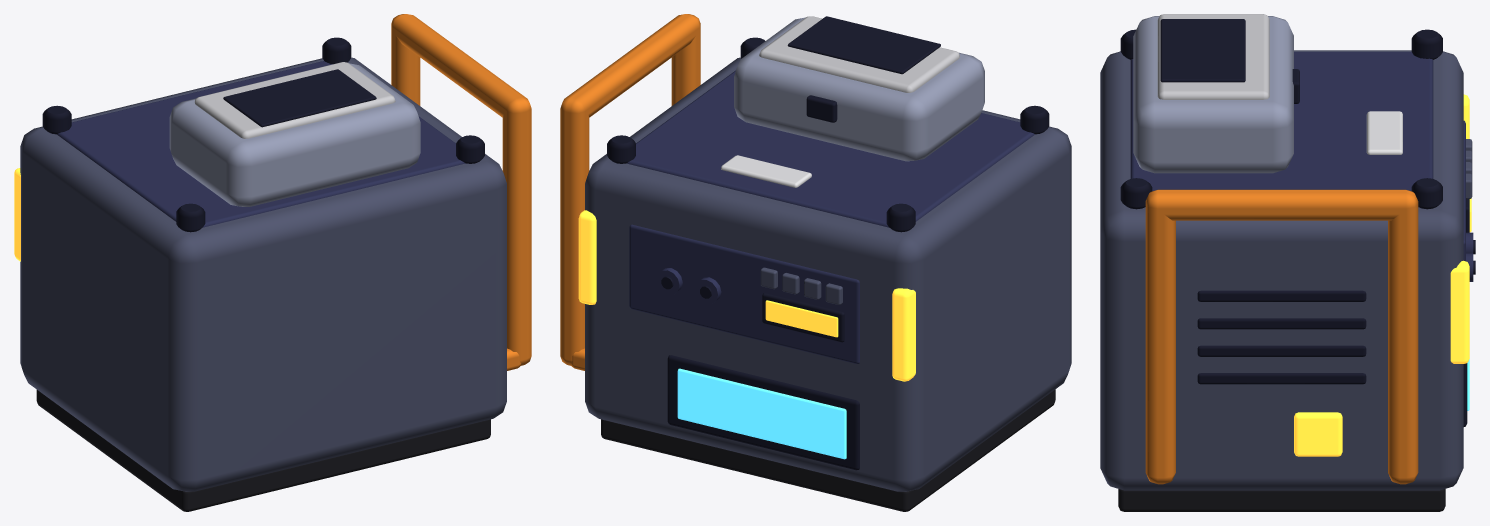
Rendered from prop.props_workrooms.machine_small.glb.
3 renders of one model, left to right at view 1: azimuth 30°, elevation 25°; view 2: azimuth 150°, elevation 25°; view 3: azimuth 270°, elevation 25°, orthographic. The views are drawn at different scales.
Parts seen in each view (by area): view 1: prop.props_workrooms.machine_small; view 2: prop.props_workrooms.machine_small; view 3: prop.props_workrooms.machine_small.
Part boxes in pixels (left/top/right/bottom): prop.props_workrooms.machine_small: left=14, top=14, right=531, bottom=511; prop.props_workrooms.machine_small: left=560, top=14, right=1071, bottom=511; prop.props_workrooms.machine_small: left=1100, top=14, right=1475, bottom=511.
Bounding box in the file's own units: 0.785 × 0.698 × 0.62.
